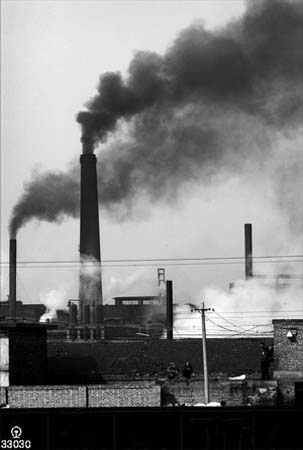dust: (70, 37, 277, 170), (1, 153, 136, 241)
